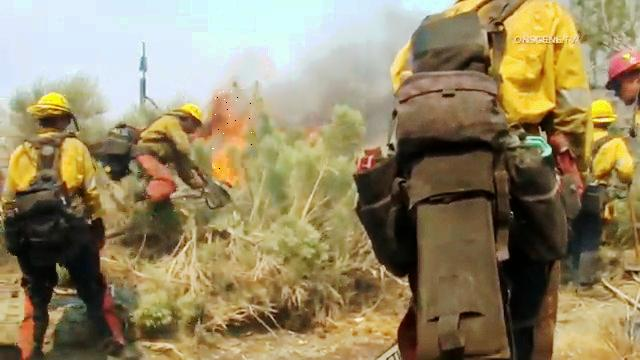fire: (212, 90, 256, 172)
smoke: (277, 16, 366, 126)
